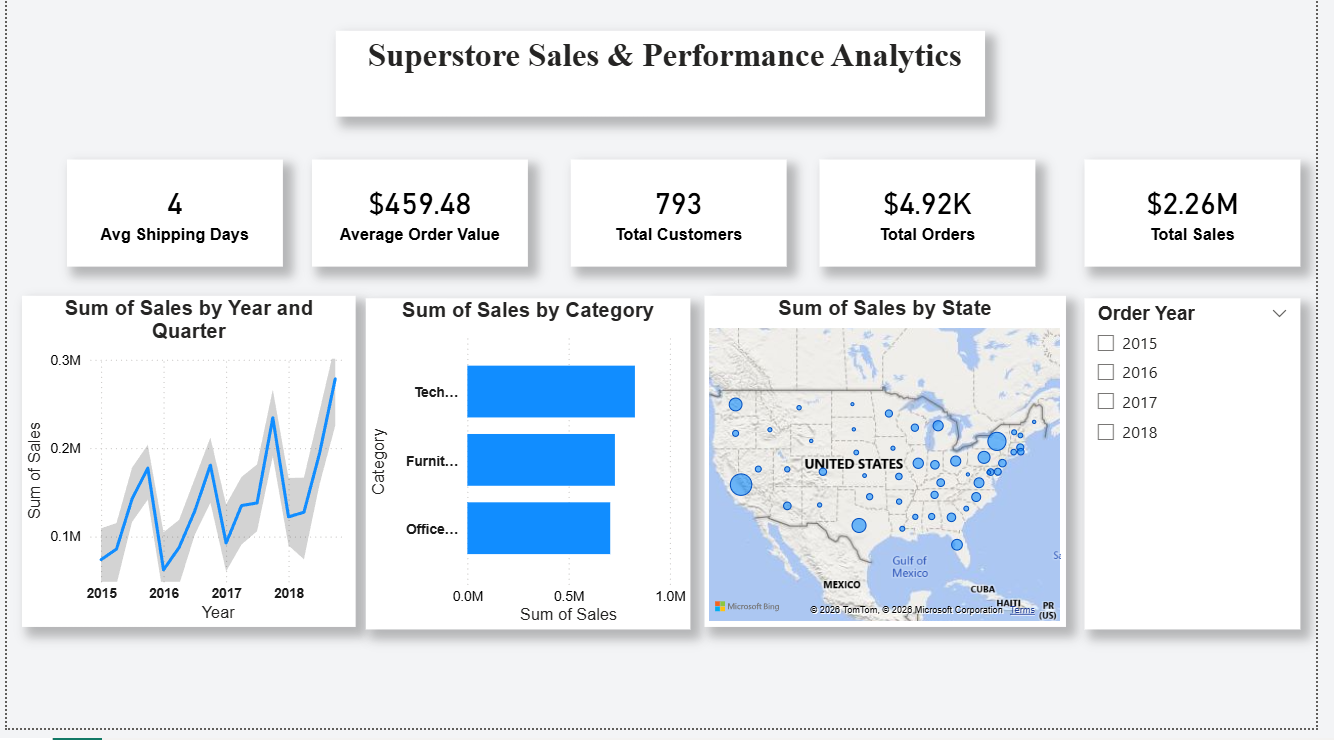

What the dashboard file says about the page in this screenshot:
{"tool":"powerbi","page":{"name":"Dashboard","canvas":[1280,720],"ordinal":0},"visuals":[{"type":"card","title":"Total Sales","fields":{"Values":["Measures (2).Total Sales"]},"box":[1053.6,164,211.3,104.9],"z":0},{"type":"card","title":"Total Customers ","fields":{"Values":["Measures (2).Total Customers"]},"box":[551.2,164,211.3,104.9],"z":1000},{"type":"card","title":"Total Orders","fields":{"Values":["Measures (2).Total Orders"]},"box":[795,164,211.3,104.9],"z":2000},{"type":"card","title":"Average Order Value","fields":{"Values":["Measures (2).Average Order Value"]},"box":[298.5,164,211.3,104.9],"z":3000},{"type":"card","title":"Avg Shipping Days","fields":{"Values":["Measures (2).Avg Shipping Days"]},"box":[59.1,164,211.3,104.9],"z":4000},{"type":"lineChart","fields":{"Y":["Sum(cleaned_superstore_data.Sales)"],"Category":["cleaned_superstore_data.Order Date.Variation.Date Hierarchy.Year","cleaned_superstore_data.Order Date.Variation.Date Hierarchy.Quarter","cleaned_superstore_data.Order Date.Variation.Date Hierarchy.Month","cleaned_superstore_data.Order Date.Variation.Date Hierarchy.Day"]},"box":[14.8,296.9,326.6,323.6],"z":5000},{"type":"barChart","fields":{"Y":["Sum(cleaned_superstore_data.Sales)"],"Category":["cleaned_superstore_data.Category"]},"box":[350.4,299.9,317.7,323.6],"z":6000},{"type":"map","fields":{"Category":["cleaned_superstore_data.State"],"Size":["Sum(cleaned_superstore_data.Sales)"]},"box":[682.9,296.9,353.3,323.6],"z":7000},{"type":"slicer","title":"Order Year","fields":{"Values":["cleaned_superstore_data.Order Year"]},"box":[1054.1,299.9,210.8,323.6],"z":8000},{"type":"textbox","box":[322.1,38.4,635.4,84.2],"z":9000}]}

Visuals, with their boxes in screenshot pixels (x1, y1, x2, y2), scaled from the page's 1280x720 canvas onto the 1334x740 screenshot:
"Total Sales" card: (left=1098, top=169, right=1318, bottom=276)
"Total Customers " card: (left=574, top=169, right=795, bottom=276)
"Total Orders" card: (left=829, top=169, right=1049, bottom=276)
"Average Order Value" card: (left=311, top=169, right=531, bottom=276)
"Avg Shipping Days" card: (left=62, top=169, right=282, bottom=276)
lineChart - Sum(cleaned_superstore_data.Sales) x cleaned_superstore_data.Order Date.Variation.Date Hierarchy.Year: (left=15, top=305, right=356, bottom=638)
barChart - Sum(cleaned_superstore_data.Sales) x cleaned_superstore_data.Category: (left=365, top=308, right=696, bottom=641)
map - cleaned_superstore_data.State x Sum(cleaned_superstore_data.Sales): (left=712, top=305, right=1080, bottom=638)
"Order Year" slicer: (left=1099, top=308, right=1318, bottom=641)
textbox: (left=336, top=39, right=998, bottom=126)
